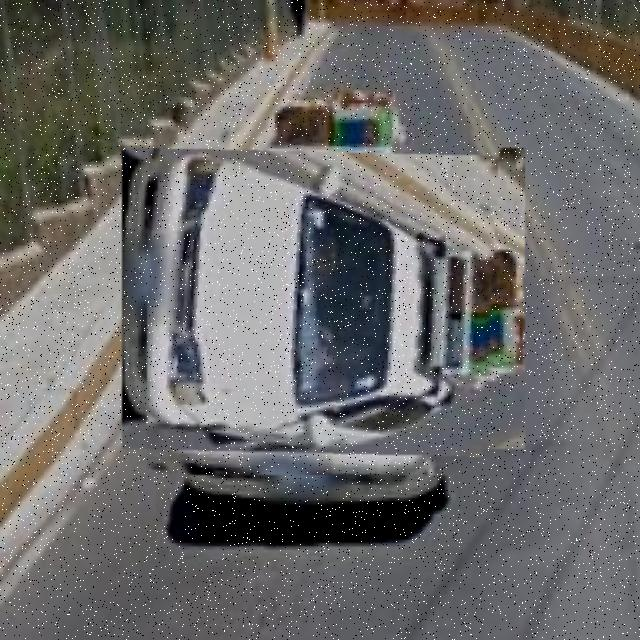car: (148, 124, 501, 476)
